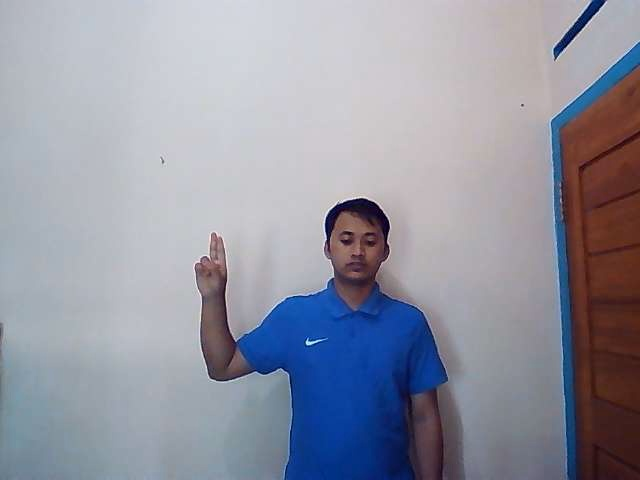U: (194, 231, 228, 295)
